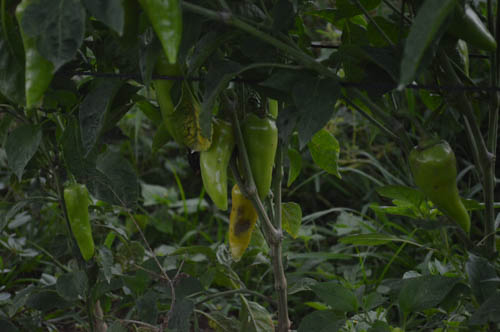ChiliPepper: (419, 144, 469, 228), (154, 62, 200, 150), (13, 6, 52, 107), (240, 116, 276, 197), (140, 3, 181, 66), (204, 117, 231, 212), (63, 188, 93, 259)
